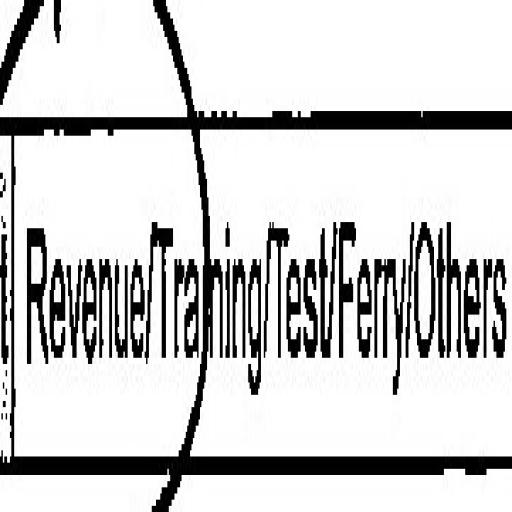check: (9, 0, 153, 512)
